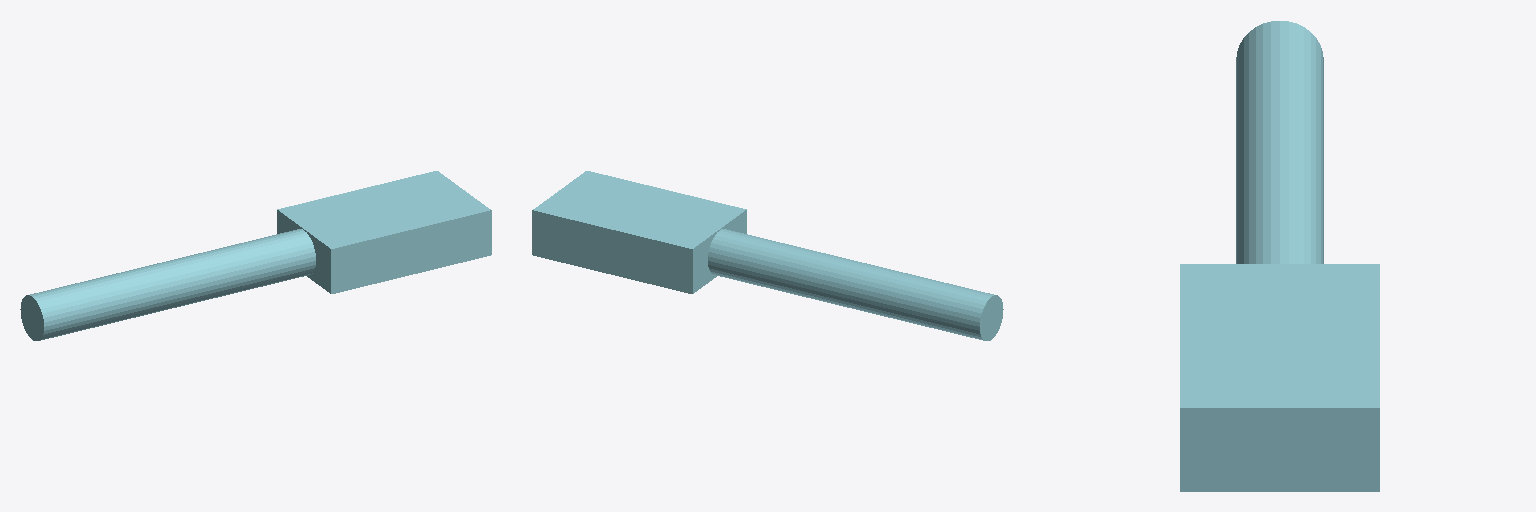
The robot description file, URDF, robot "cylinder_spatula_v6013":
<?xml version="1.0"?>
<robot name="cylinder_spatula_v6013">

  <link name="cylinder_spatula_v6013">
    <!-- Handle -->
    <visual>
      <origin xyz="0 0 0" rpy="0 1.5707963267948966 0"/>
      <geometry>
        <cylinder length="0.17936821505599726" radius="0.013560240903897902"/>
      </geometry>
      <material name="material">
        <color rgba="0.639 0.847 0.882 1.0"/>
      </material>
    </visual>
    <collision>
      <origin xyz="0 0 0" rpy="0 1.5707963267948966 0"/>
      <geometry>
        <cylinder length="0.17936821505599726" radius="0.013560240903897902"/>
      </geometry>
    </collision>

    <!-- Head -->
    <visual>
      <origin xyz="0.14245719303488683 0 0" rpy="0 0 0"/>
      <geometry>
        <box size="0.10554617101377639 0.062082391479428976 0.02849403334439777"/>
      </geometry>
      <material name="material">
        <color rgba="0.639 0.847 0.882 1.0"/>
      </material>
    </visual>
    <collision>
      <origin xyz="0.14245719303488683 0 0" rpy="0 0 0"/>
      <geometry>
        <box size="0.10554617101377639 0.062082391479428976 0.02849403334439777"/>
      </geometry>
    </collision>

    <inertial>
      <density value="400.0"/>
    </inertial>
  </link>

</robot>

--- Facts derived from the render (not from the file) ---
3 views of the same robot in one strip: view 1: azimuth 30°, elevation 25°; view 2: azimuth 150°, elevation 25°; view 3: azimuth 270°, elevation 25° (orthographic).
Model cylinder_spatula_v6013 with 1 links and 0 joints (none), rooted at cylinder_spatula_v6013, posed every joint at zero.
Links seen in each view (by area): view 1: cylinder_spatula_v6013; view 2: cylinder_spatula_v6013; view 3: cylinder_spatula_v6013.
Link boxes in pixels (box(x1,y1,x2,y2)): cylinder_spatula_v6013: box(20, 171, 491, 340); cylinder_spatula_v6013: box(532, 171, 1003, 340); cylinder_spatula_v6013: box(1180, 21, 1379, 491).
Size in the robot's own frame: 0.2849 by 0.0621 by 0.0285 metres.
Geometry: primitives only (box / cylinder / sphere), no mesh files.
